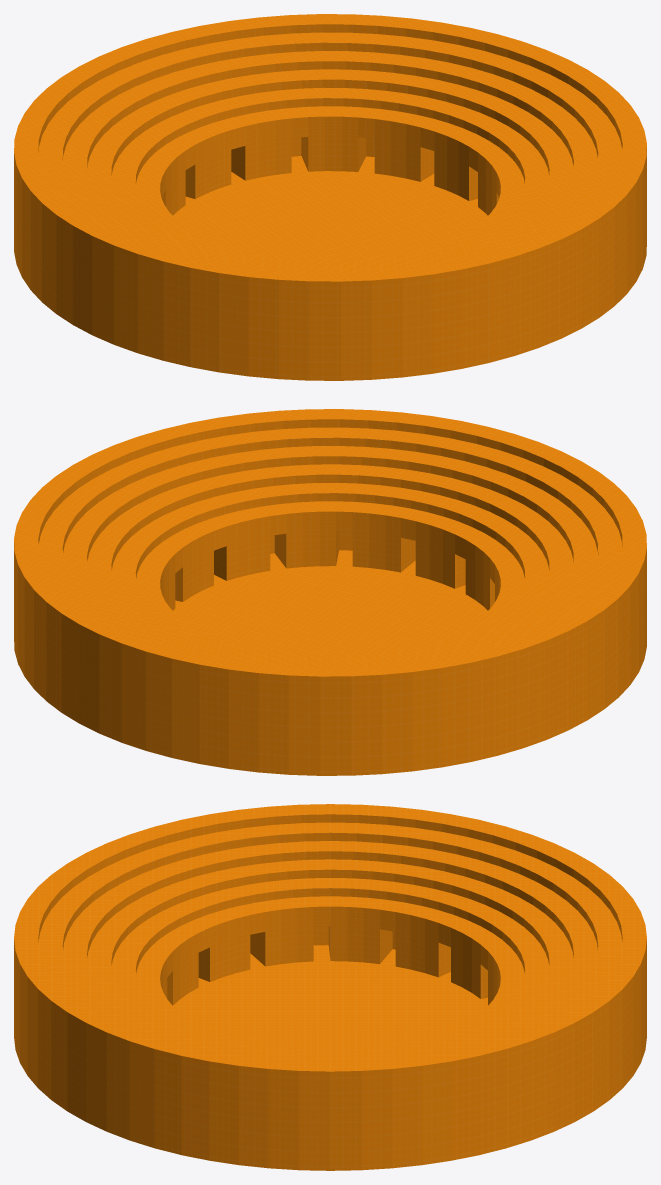
The model's file is lucifersColosseum.glb.
The picture shows the model from 3 angles, top to bottom: view 1: azimuth 30°, elevation 25°; view 2: azimuth 150°, elevation 25°; view 3: azimuth 270°, elevation 25°; orthographic projection.
Visible parts, largest first — view 1: Colosseum-col; view 2: Colosseum-col; view 3: Colosseum-col.
Part boxes in pixels (box(x1,y1,x2,y2)): Colosseum-col: box(14, 14, 646, 380); Colosseum-col: box(14, 409, 646, 775); Colosseum-col: box(14, 804, 646, 1170).
Size of the model in its own units: 64.28 by 11.13 by 64.28.
1 material, 1 textured.
